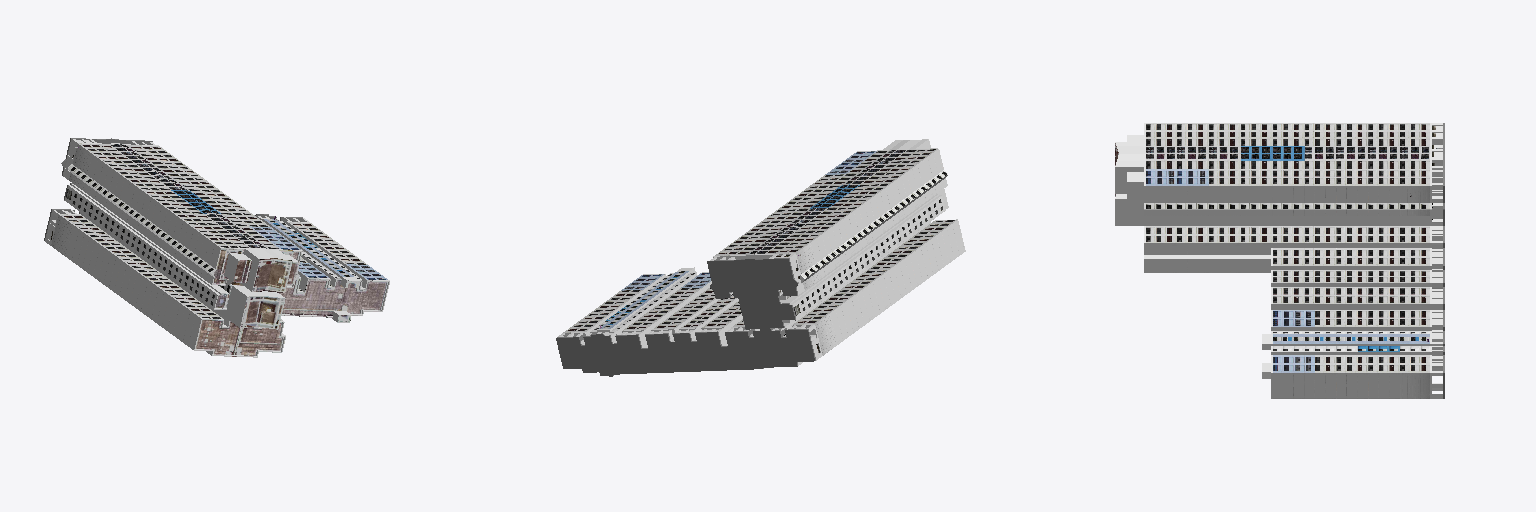
The picture shows the model from 3 angles: view 1: azimuth 30°, elevation 25°; view 2: azimuth 150°, elevation 25°; view 3: azimuth 270°, elevation 25°; orthographic projection.
Parts seen in each view (by area): view 1: polygon.781; view 2: polygon.781; view 3: polygon.781.
Boxes of the visible parts, x1=… form: polygon.781: x1=44, y1=138, x2=389, y2=357; polygon.781: x1=556, y1=139, x2=965, y2=376; polygon.781: x1=1115, y1=123, x2=1444, y2=398.
Bounding box in the file's own units: 81.21 × 49.52 × 89.29.
1 materials, 1 textured.